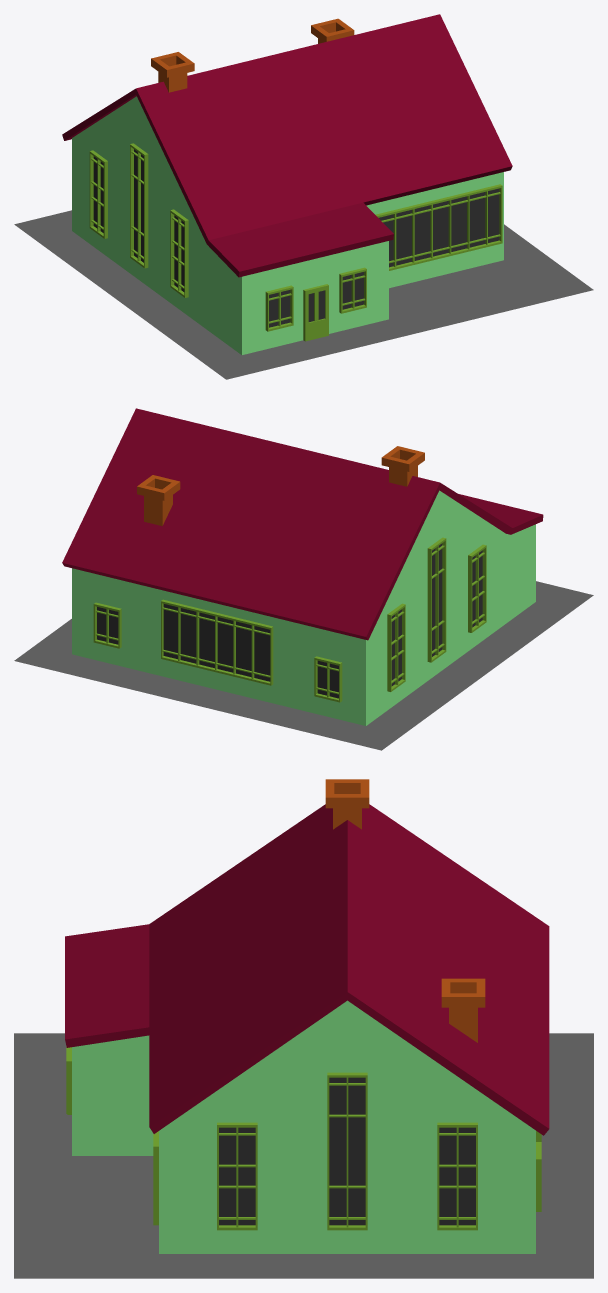
Rendered from house_02.fbx.
3 views of the same model, one above another, from view 1: azimuth 30°, elevation 25°; view 2: azimuth 150°, elevation 25°; view 3: azimuth 270°, elevation 25° (orthographic). The views are drawn at different scales.
Parts seen in each view (by area): view 1: house_02; view 2: house_02; view 3: house_02.
Part boxes in pixels (x1,y1,x2,y2): house_02: (14, 14, 593, 379); house_02: (14, 408, 593, 750); house_02: (14, 779, 593, 1278).
Bounding box in the file's own units: 20 × 11.06 × 20.
